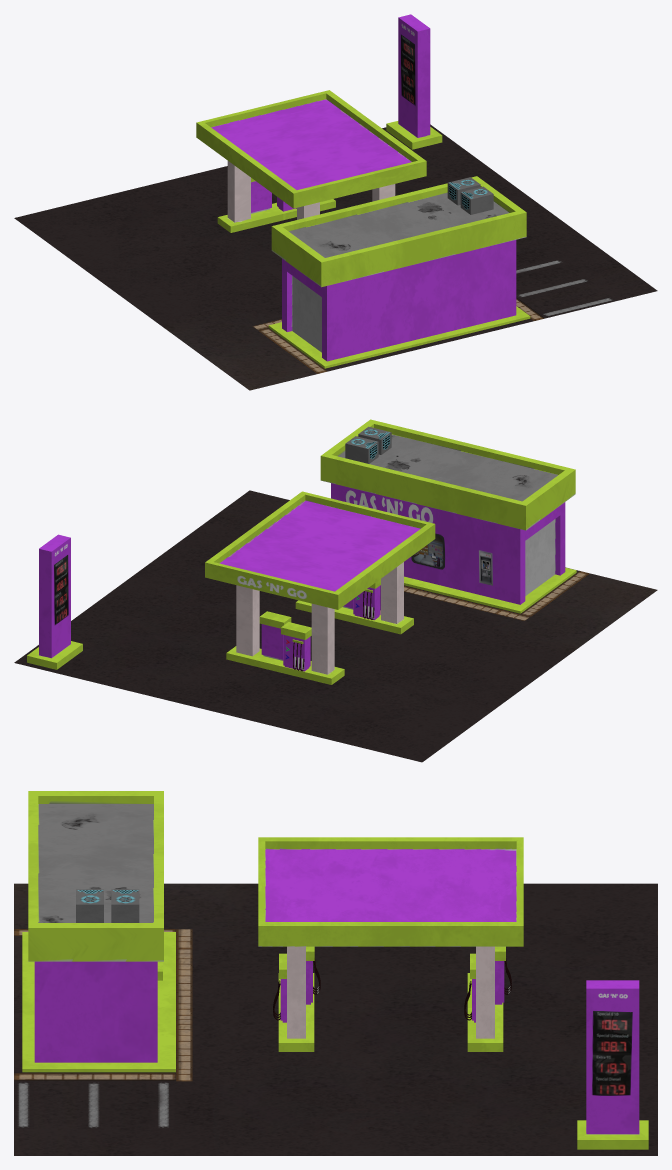
Rendered from Fuel_station_mesh.fbx.
3 renders of one model, top to bottom at view 1: azimuth 30°, elevation 25°; view 2: azimuth 150°, elevation 25°; view 3: azimuth 270°, elevation 25°, orthographic. The views are drawn at different scales.
Visible parts, largest first — view 1: floor_base_30m2; view 2: floor_base_30m2; view 3: floor_base_30m2.
Boxes of the visible parts, x1,y1,x2,y2 form: floor_base_30m2: (14, 14, 657, 390); floor_base_30m2: (14, 419, 657, 762); floor_base_30m2: (14, 791, 657, 1155).
Size of the model in its own units: 300 by 81.48 by 300.
